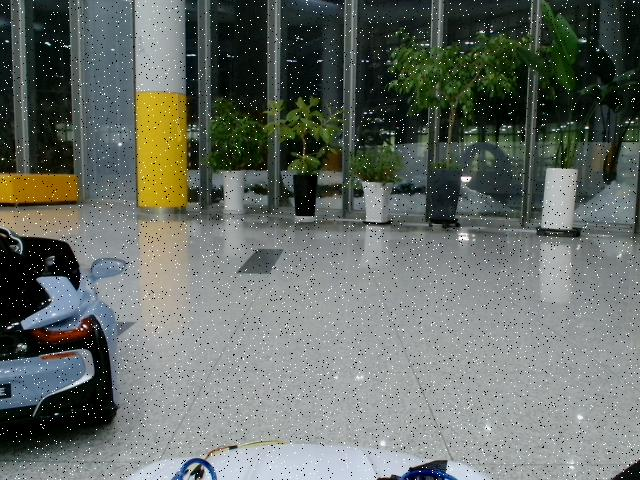car: (1, 227, 126, 441)
